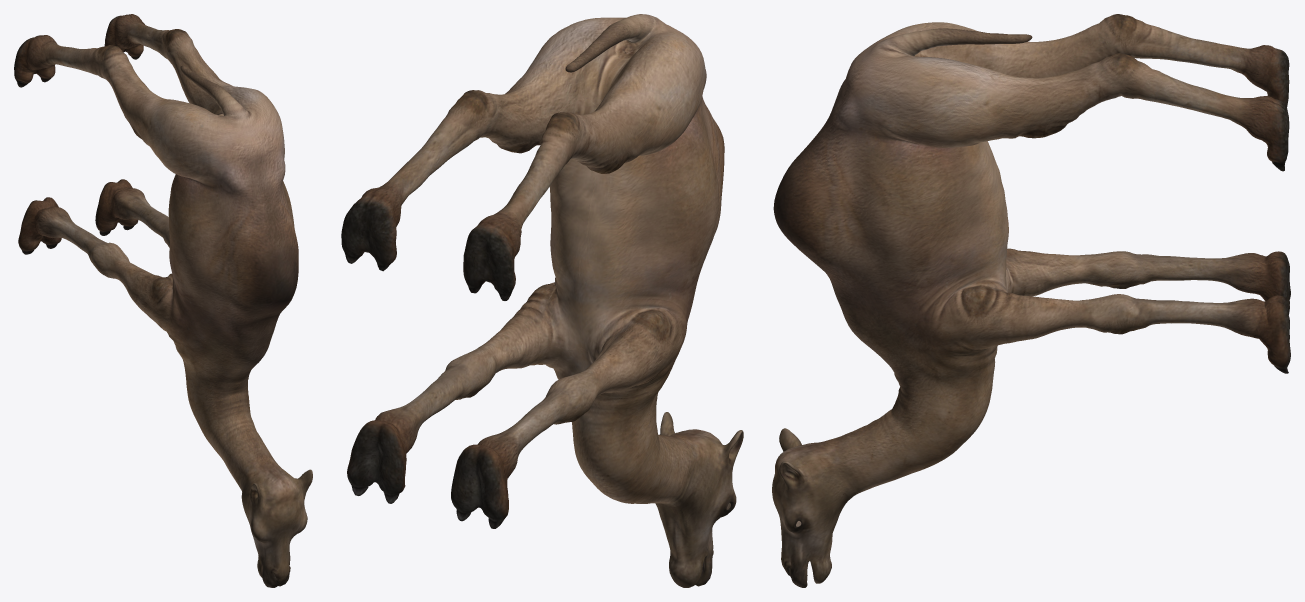
File: camel.glb
3 renders of one model, left to right at view 1: azimuth 30°, elevation 25°; view 2: azimuth 150°, elevation 25°; view 3: azimuth 270°, elevation 25°, orthographic. The views are drawn at different scales.
Visible parts, largest first — view 1: Camel; view 2: Camel; view 3: Camel.
Part boxes in pixels (x1=…): Camel: x1=14, y1=14, x2=312, y2=587; Camel: x1=341, y1=14, x2=743, y2=587; Camel: x1=772, y1=14, x2=1290, y2=587.
Size of the model in its own units: 0.764 by 2.63 by 2.22.
Materials: 1 (1 with a texture image).
